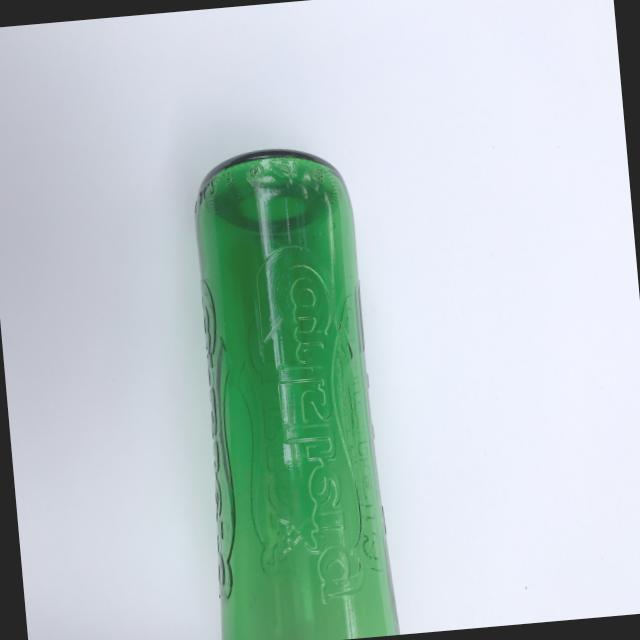Glass: (166, 127, 418, 640)
